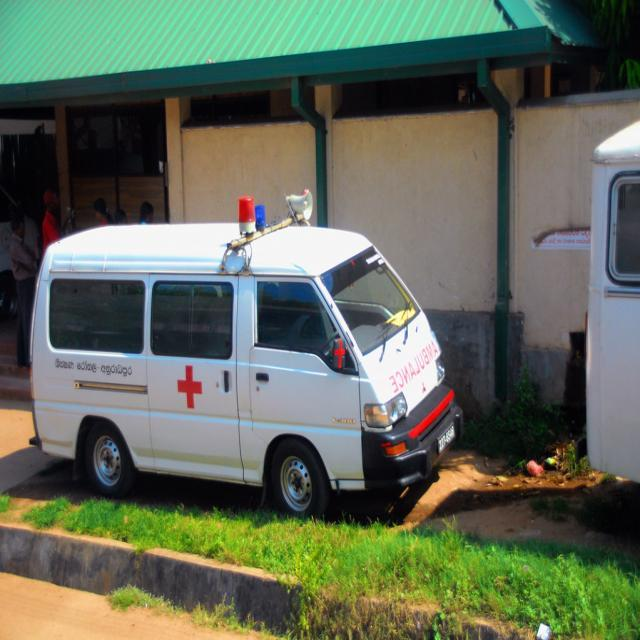emergency-vehicle: (22, 184, 478, 522)
